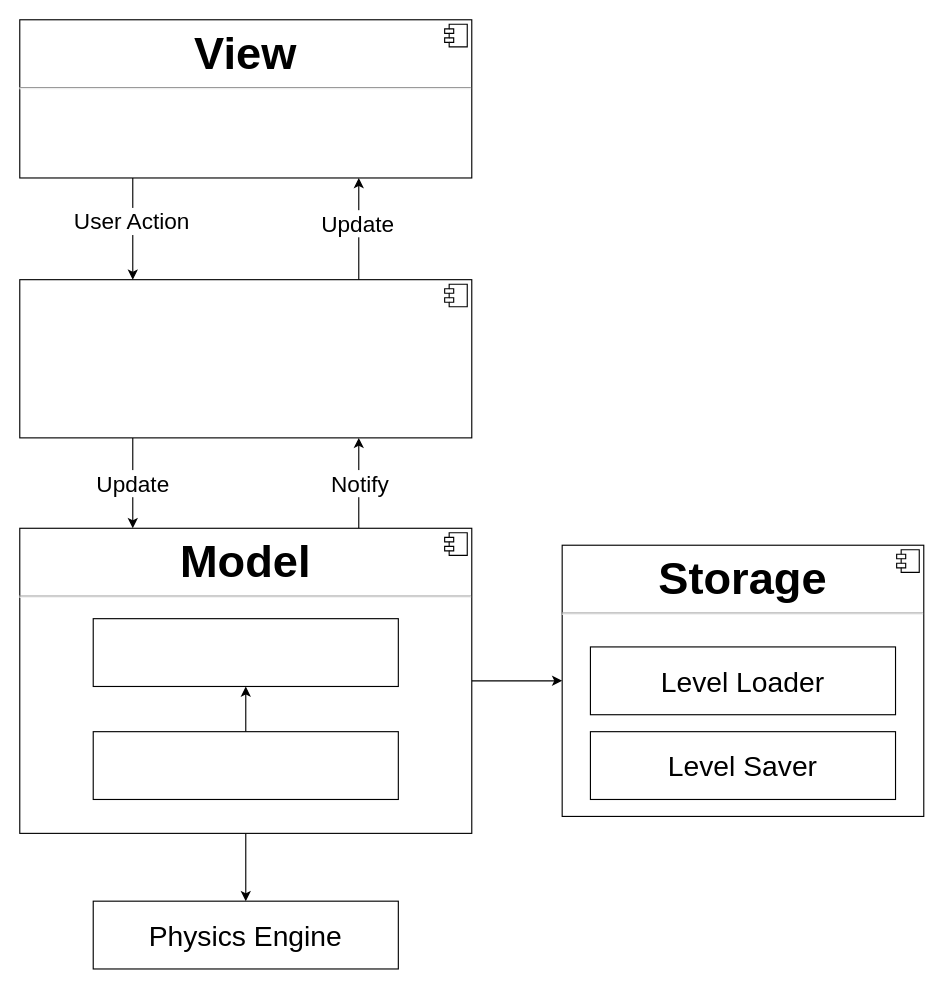
This 944x989 diagram has some shape labels left out. The centre of each missing label's shape, as x and y in pixels:
"Controller" belongs at pixel 245 358.
"Game Engine" belongs at pixel 245 765.
"Peggle Model" belongs at pixel 245 652.
